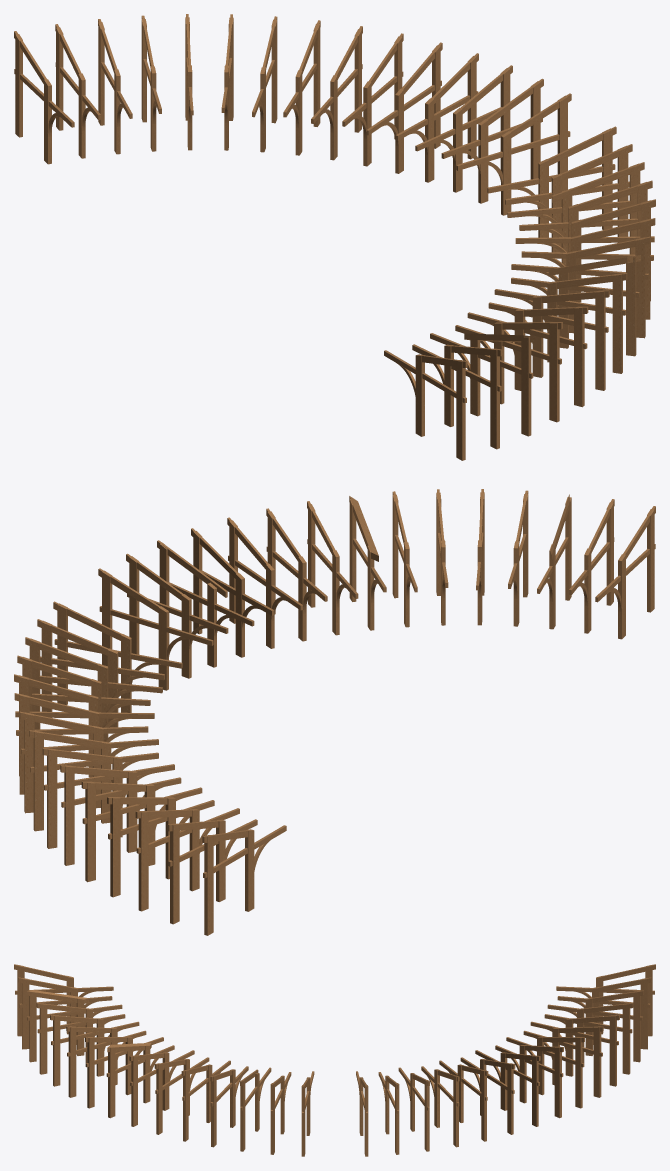
Rendered from mesh_com_bs_supports.glb.
3 renders of one model, top to bottom at view 1: azimuth 30°, elevation 25°; view 2: azimuth 150°, elevation 25°; view 3: azimuth 270°, elevation 25°, orthographic. The views are drawn at different scales.
Visible parts, largest first — view 1: mesh_com_bs_supports; view 2: mesh_com_bs_supports; view 3: mesh_com_bs_supports.
Part boxes in pixels (x1,y1,x2,y2): mesh_com_bs_supports: (14,14,655,460); mesh_com_bs_supports: (14,489,655,935); mesh_com_bs_supports: (14,964,655,1156).
Size of the model in its own units: 24.13 by 6.33 by 51.58.
1 material, 1 textured.
